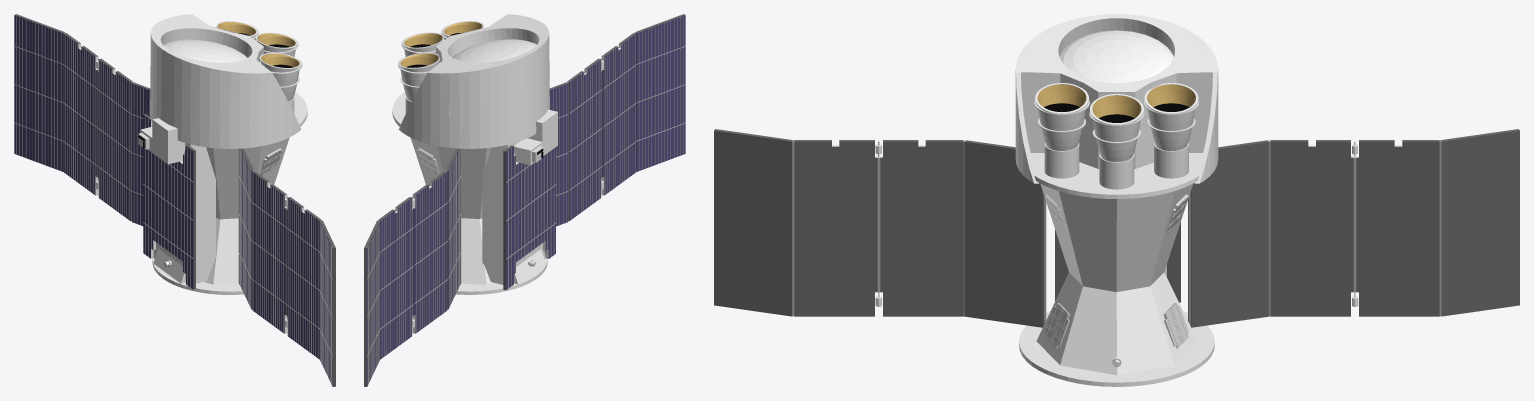
The model's file is swas.glb.
3 views of the same model, side by side, from view 1: azimuth 30°, elevation 25°; view 2: azimuth 150°, elevation 25°; view 3: azimuth 270°, elevation 25° (orthographic). The views are drawn at different scales.
Parts seen in each view (by area): view 1: <LWODefault>; view 2: <LWODefault>; view 3: <LWODefault>.
Boxes of the visible parts, x1,y1,x2,y2 form: <LWODefault>: (14,14,335,386); <LWODefault>: (364,14,685,386); <LWODefault>: (714,14,1519,386).
Size of the model in its own units: 21.82 by 32.63 by 82.26.
